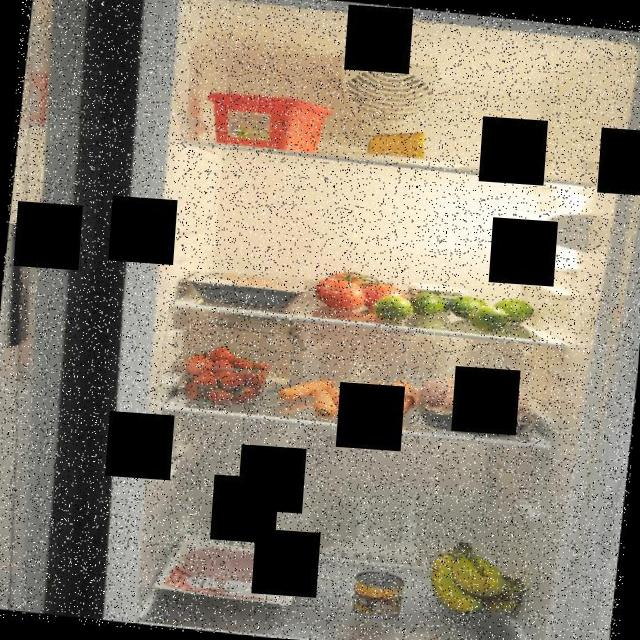Carne cerdo: (166, 538, 296, 604)
Carne pollo: (411, 363, 544, 441)
Carne vacuno: (178, 264, 308, 312)
Mantequilla: (202, 86, 336, 156)
Plátano: (422, 535, 536, 622)
Queso: (361, 124, 433, 166)
Tomate: (304, 260, 413, 318)
Zanahoria: (271, 366, 419, 426)
corn: (348, 568, 409, 622)
flour: (202, 304, 310, 394)
strawberries: (178, 340, 268, 410)
